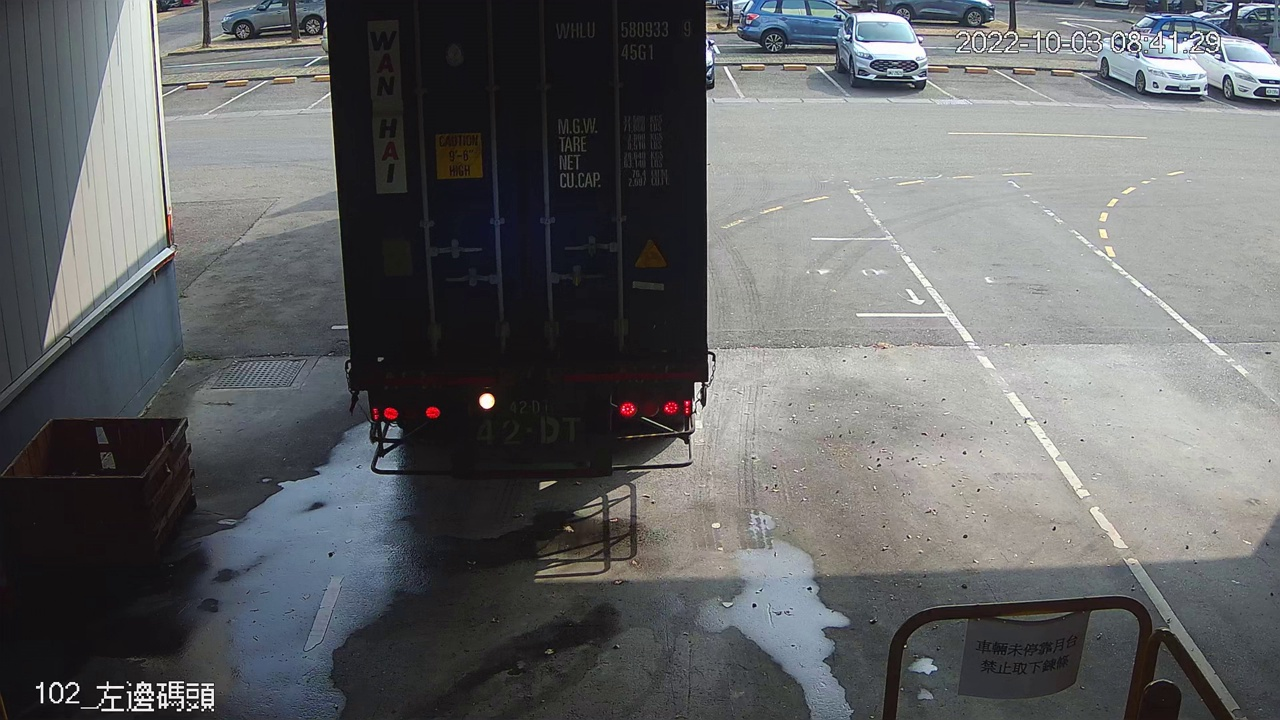container: (549, 12, 695, 64)
